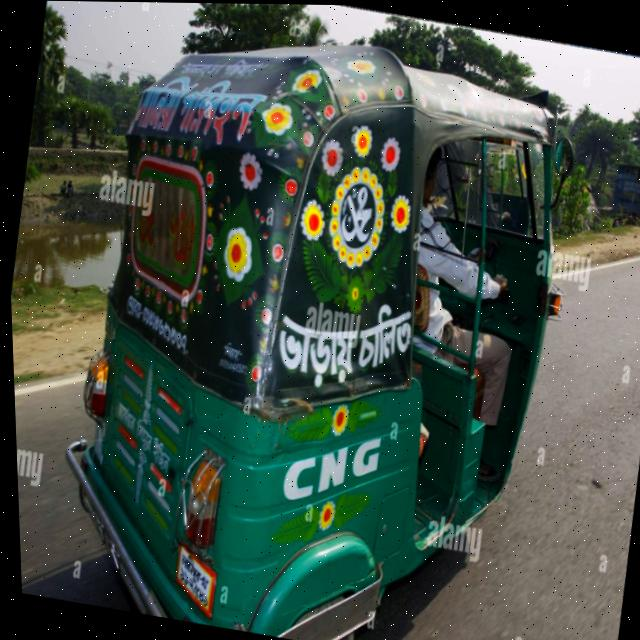cng: (10, 0, 594, 640)
